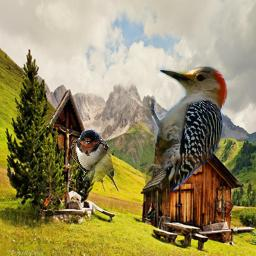Swallow: (71, 129, 119, 192)
Woodpecker: (140, 59, 246, 203)
